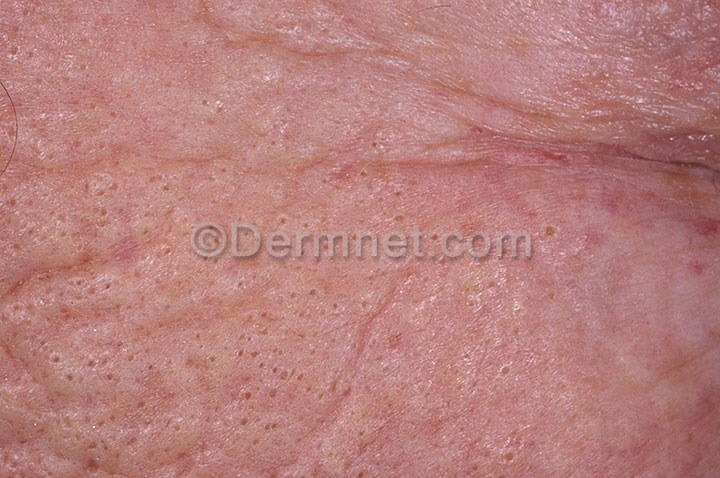Acne: (99, 95, 645, 411)
